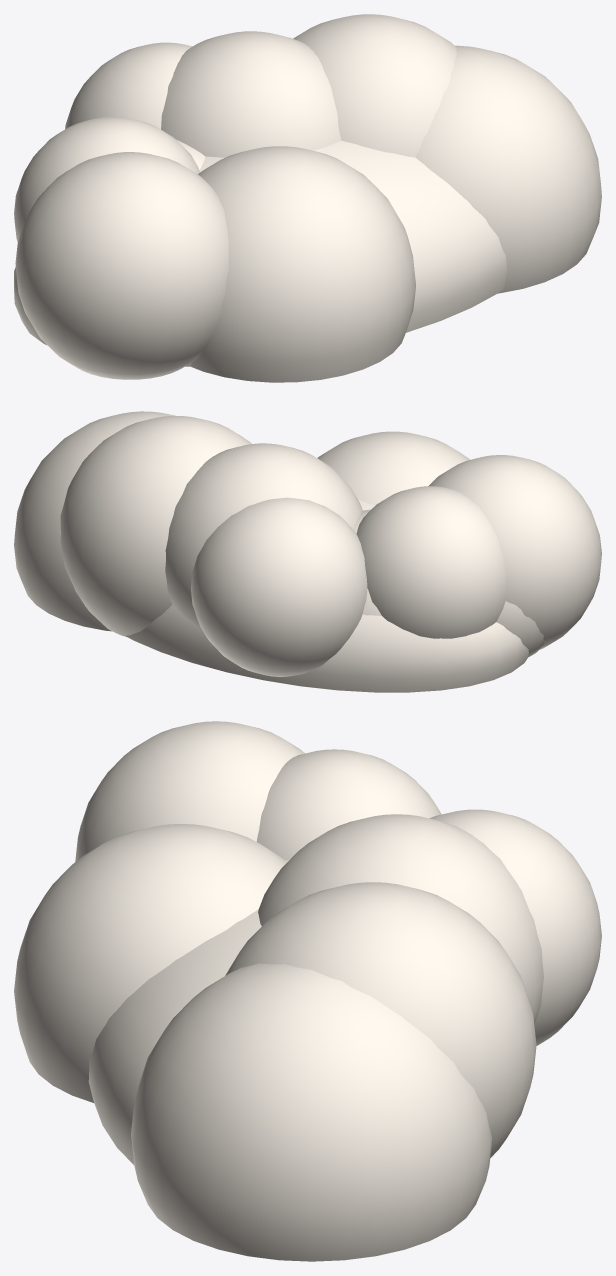
File: cloud.glb
The picture shows the model from 3 angles, top to bottom: view 1: azimuth 30°, elevation 25°; view 2: azimuth 150°, elevation 25°; view 3: azimuth 270°, elevation 25°; orthographic projection. The views are drawn at different scales.
Visible parts, largest first — view 1: cloud; view 2: cloud; view 3: cloud.
Boxes of the visible parts, box(x1,y1,x2,y2) form: cloud: box(14, 14, 601, 382); cloud: box(14, 411, 601, 692); cloud: box(14, 721, 601, 1261).
Bounding box in the file's own units: 15.09 × 5.19 × 10.58.
Materials: 1 (1 with a texture image).
